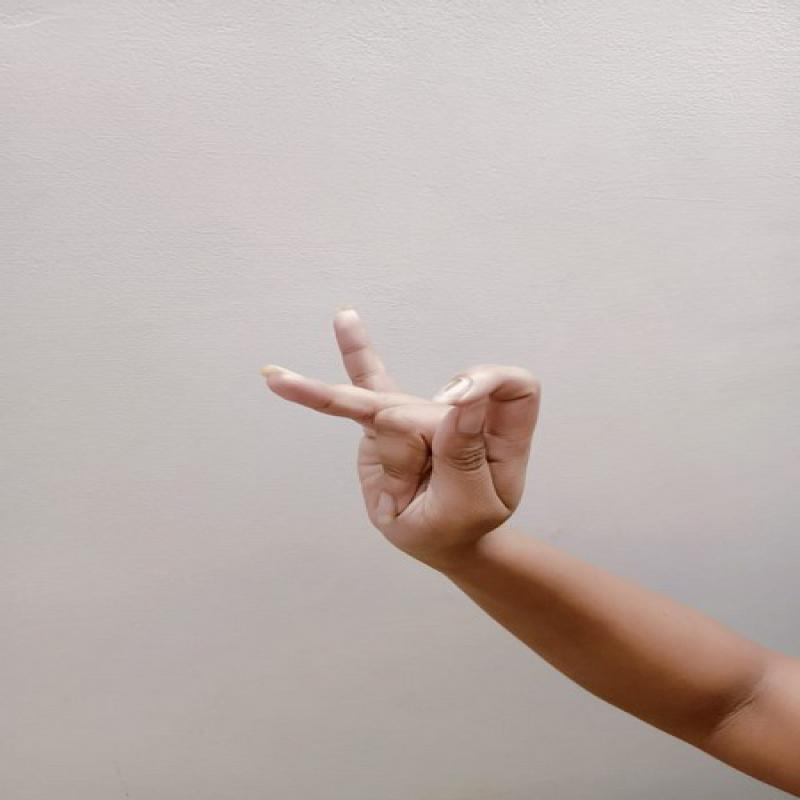Katakam: (254, 296, 557, 568)
